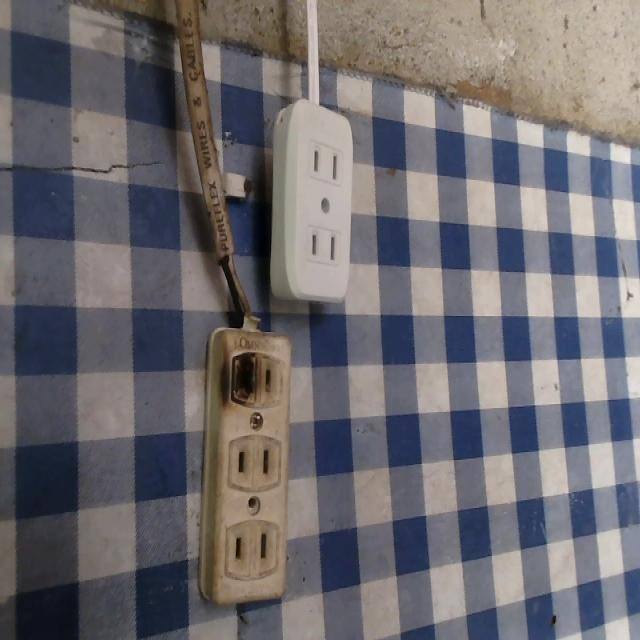-: (223, 340, 263, 417)
